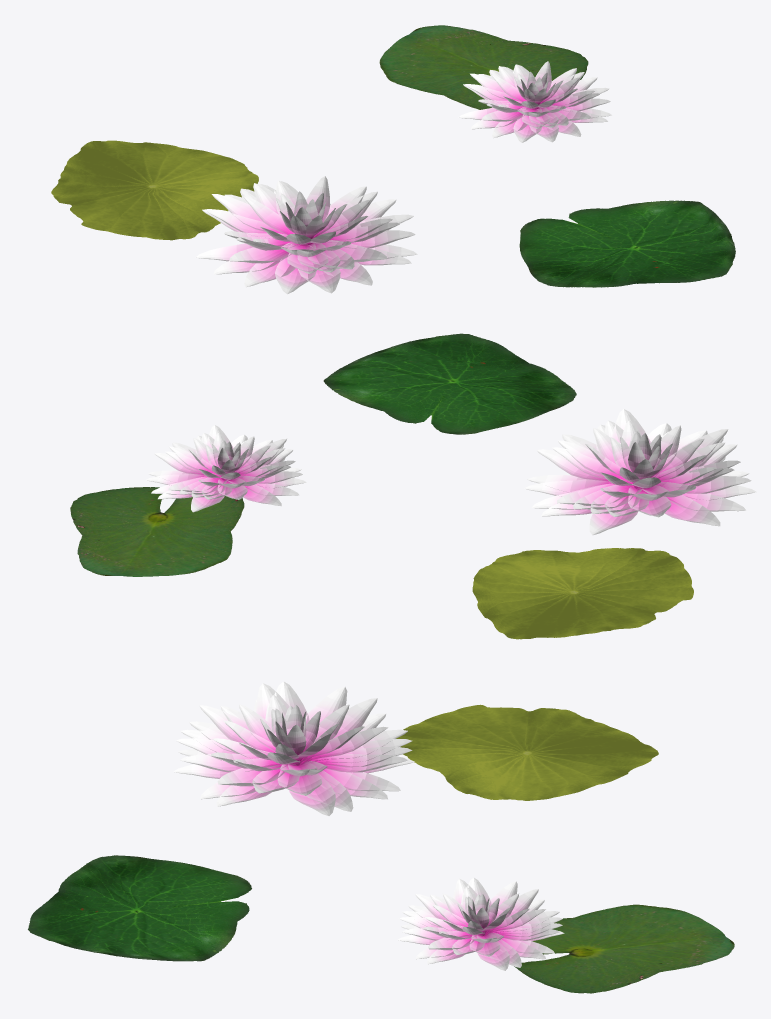
File: lelies.fbx
3 renders of one model, top to bottom at view 1: azimuth 30°, elevation 25°; view 2: azimuth 150°, elevation 25°; view 3: azimuth 270°, elevation 25°, orthographic. The views are drawn at different scales.
Visible parts, largest first — view 1: Plane.017; view 2: Plane.017; view 3: Plane.017.
Part boxes in pixels (<box>): Plane.017: <box>51,25,735,294</box>; Plane.017: <box>70,333,756,639</box>; Plane.017: <box>28,681,734,993</box>.
Bounding box in the file's own units: 4.84 × 0.4688 × 4.79.
2 materials, 2 textured.
